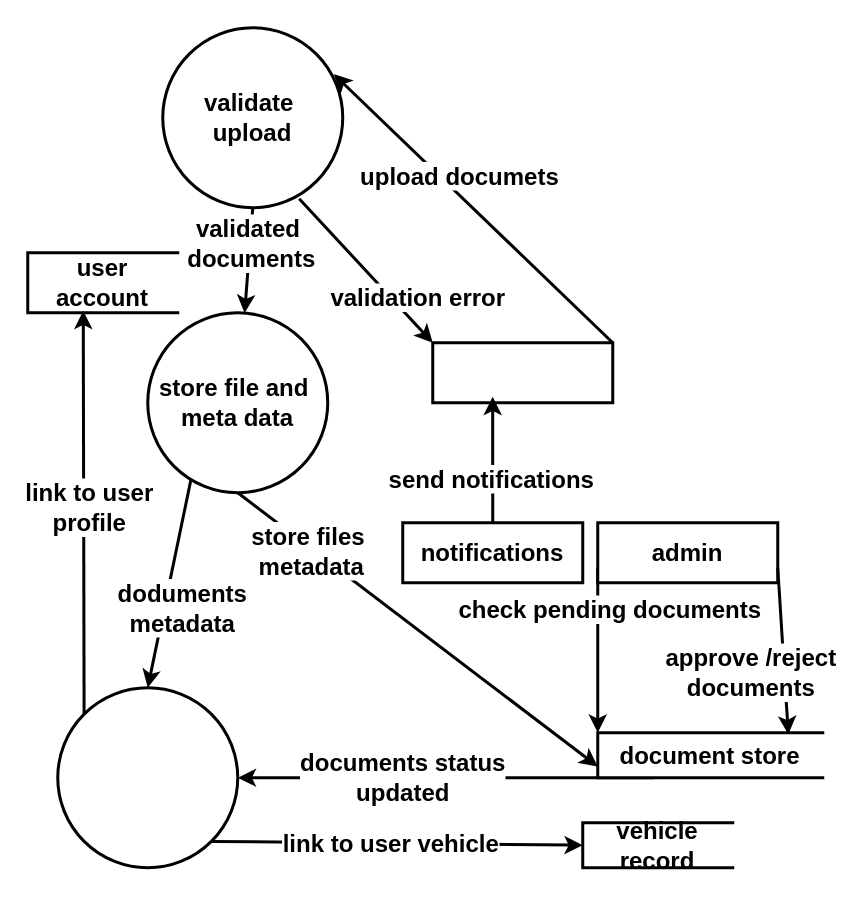
Some shapes in this 863 by 899 pixel diagram are drawn without their labels. Each missing label, with the box of its shape:
link document and enque: (56, 686, 238, 868)
user: (430, 340, 614, 404)
